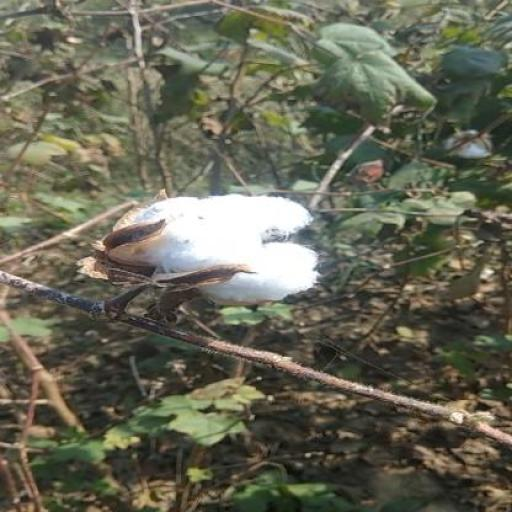cotton_ready: (98, 188, 325, 335)
